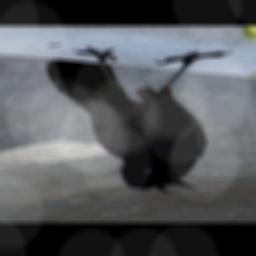Crow: (47, 47, 233, 195)
